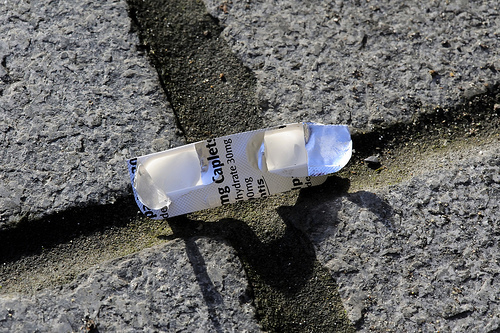litter: (127, 121, 353, 221)
